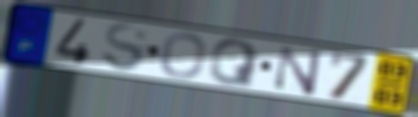4: (54, 17, 93, 66)
7: (327, 49, 374, 103)
N: (273, 44, 325, 98)
O: (158, 31, 209, 80)
Q: (207, 38, 262, 89)
S: (100, 22, 152, 74)
